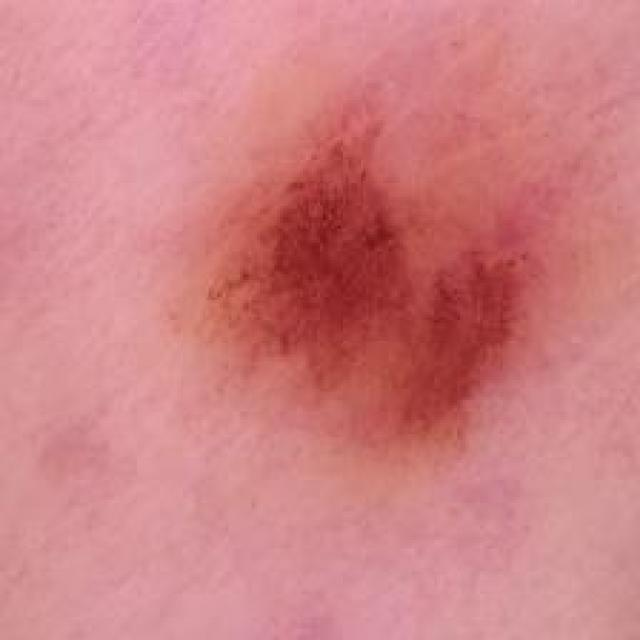Cancer: (194, 73, 565, 473)
